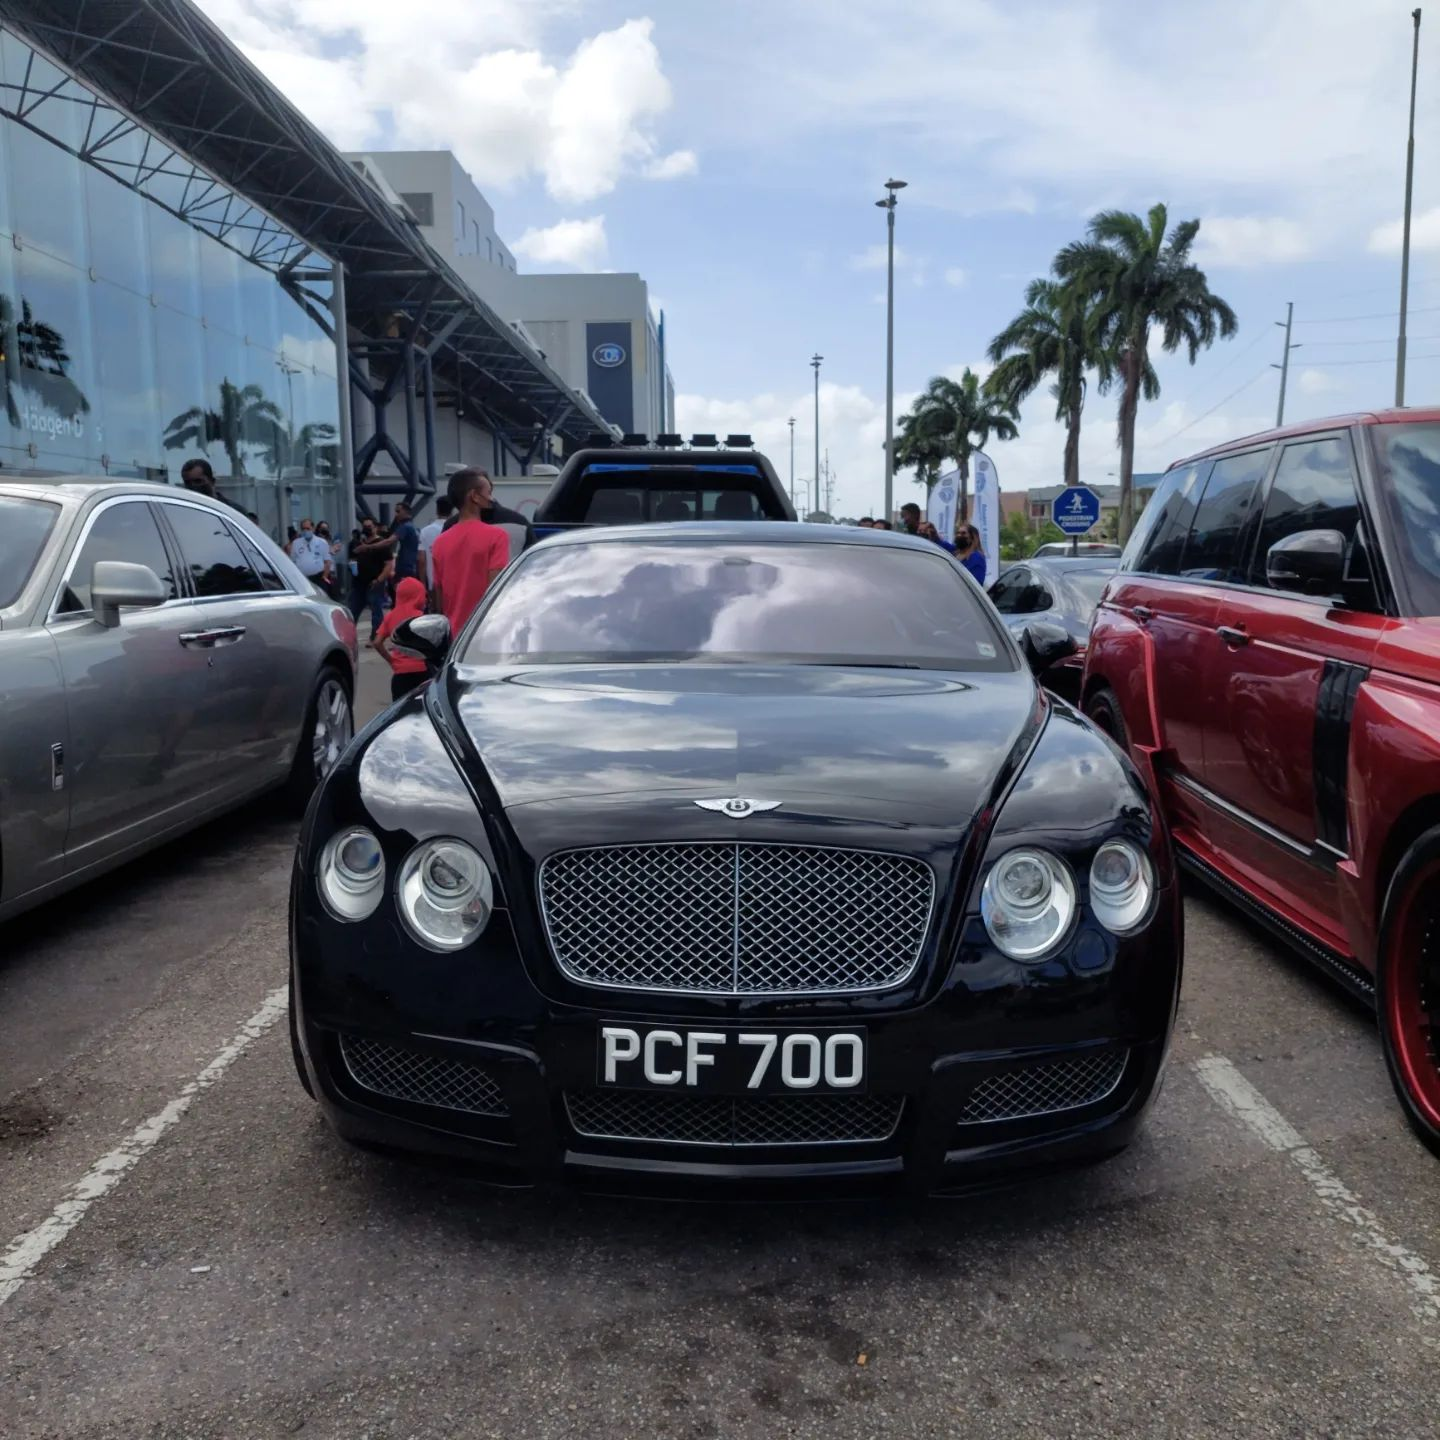License-Plate: (598, 1025, 867, 1087)
